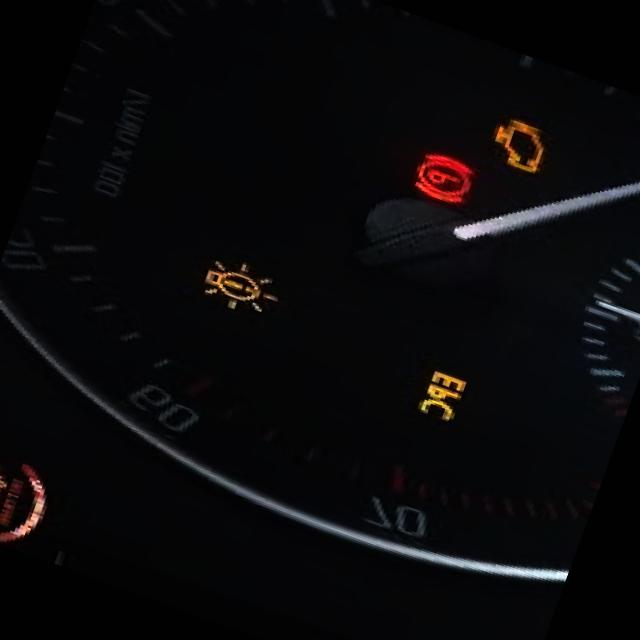kontrolka: (182, 242, 298, 332), (476, 102, 566, 184), (404, 355, 480, 435), (404, 143, 482, 210)
